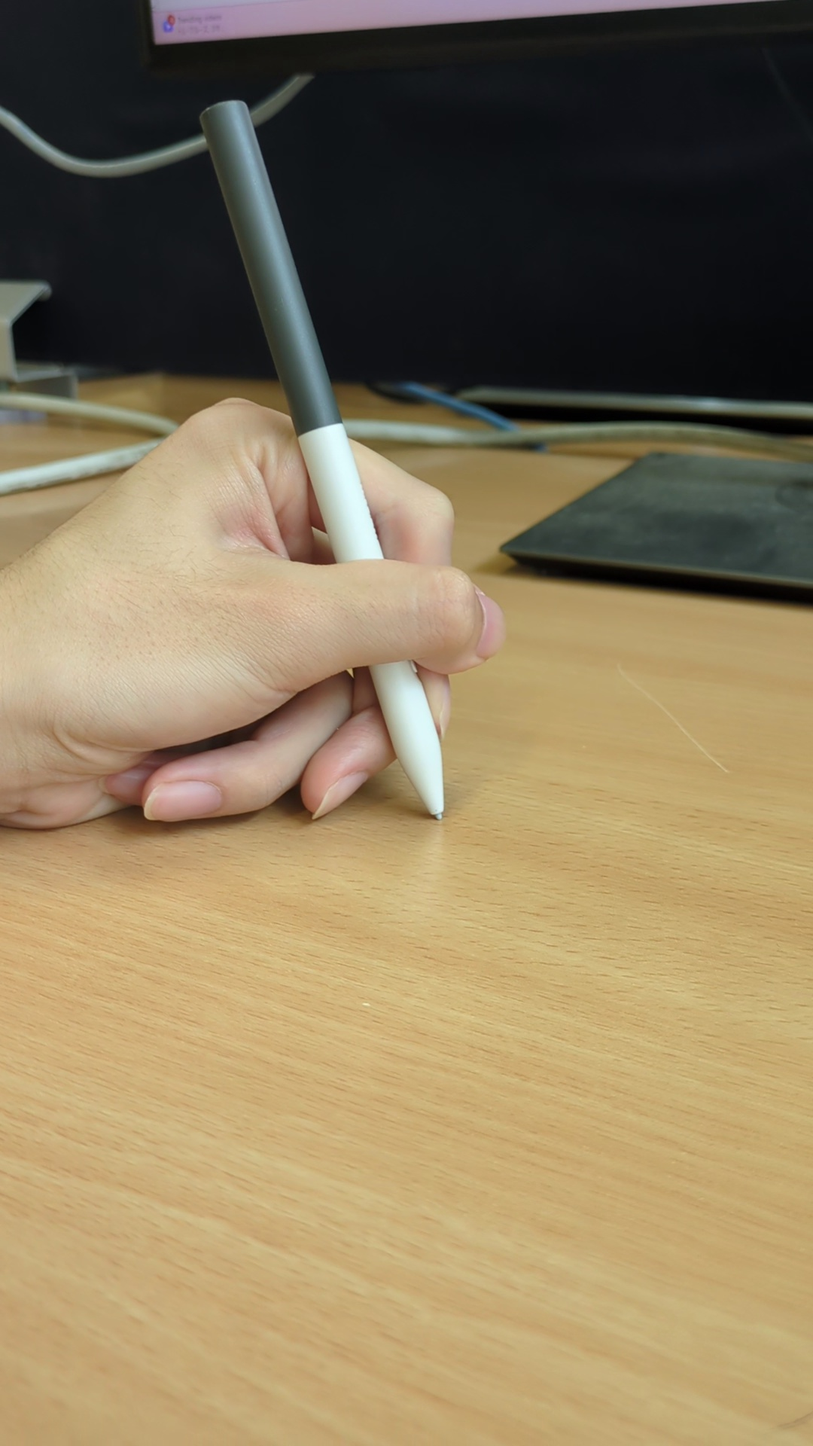pen: (199, 98, 450, 826)
tip: (422, 795, 450, 822)
